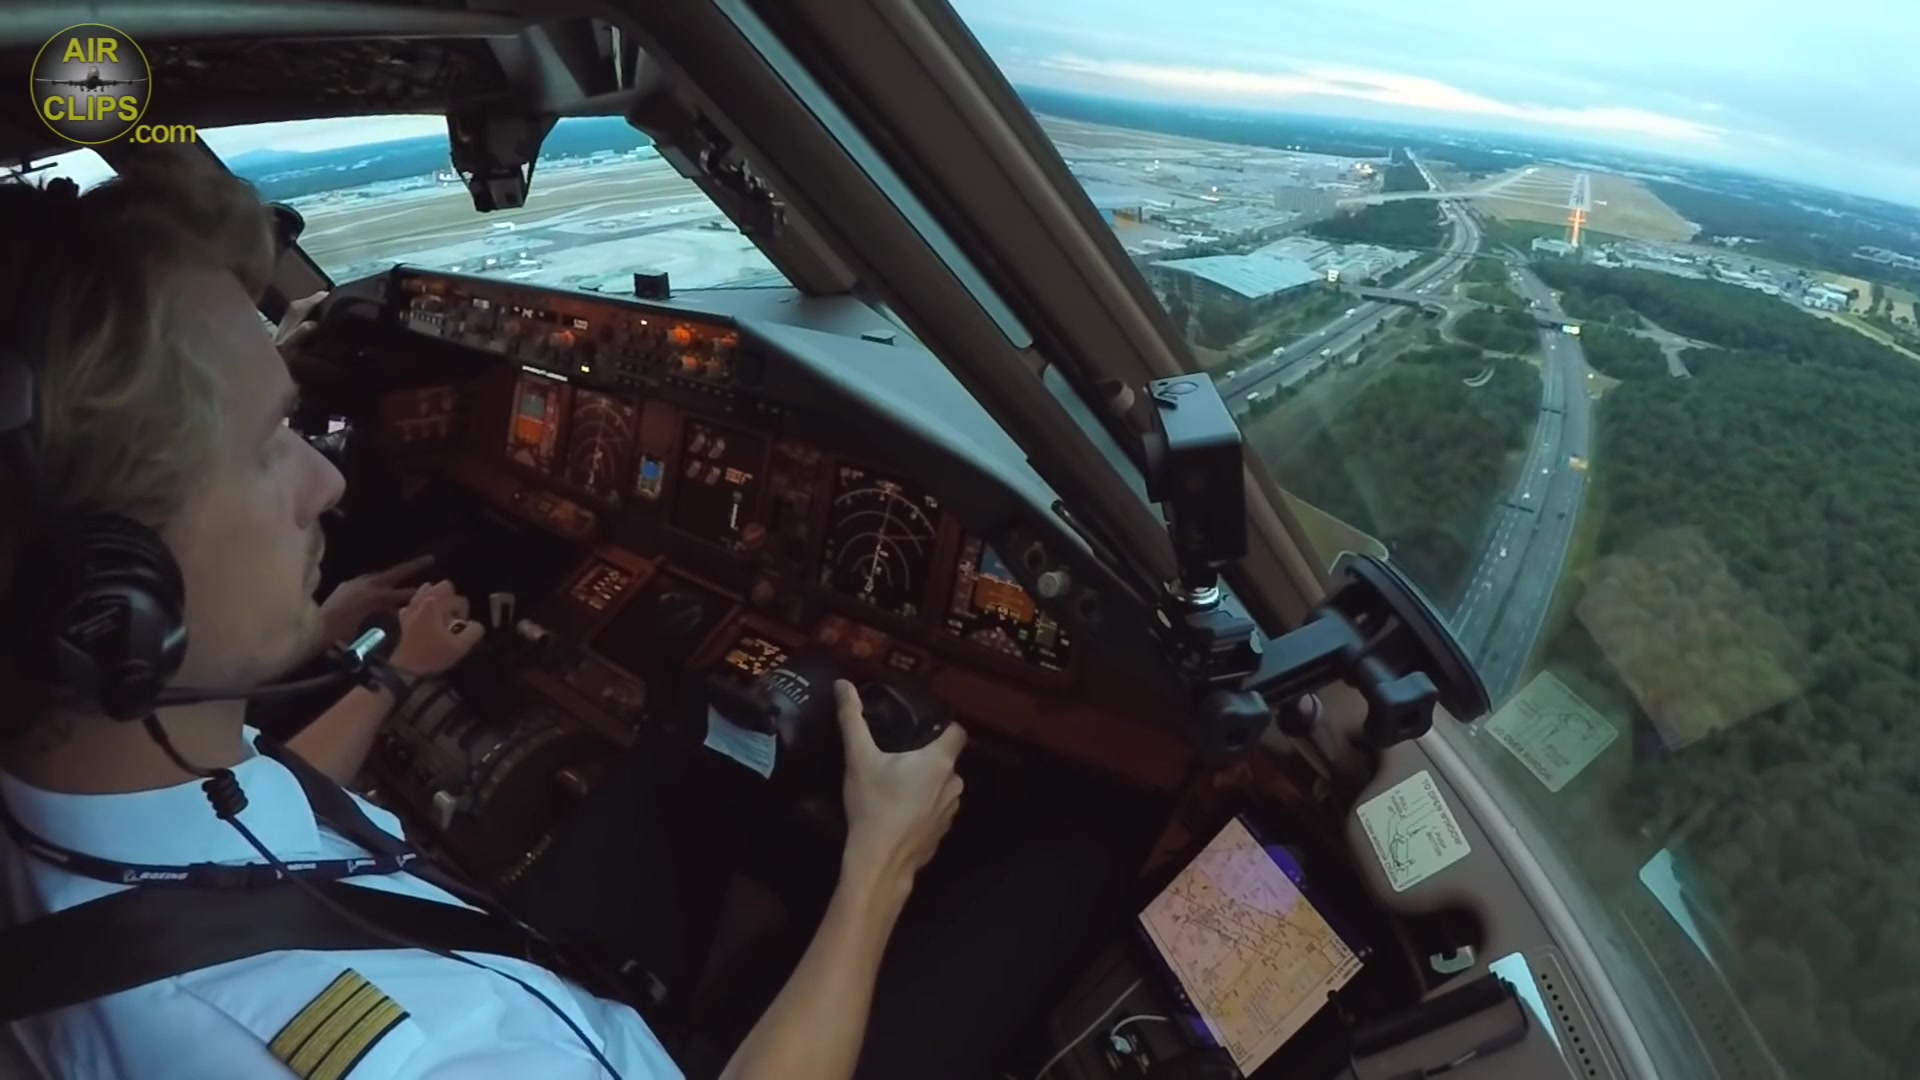runway: (1567, 173, 1593, 215)
